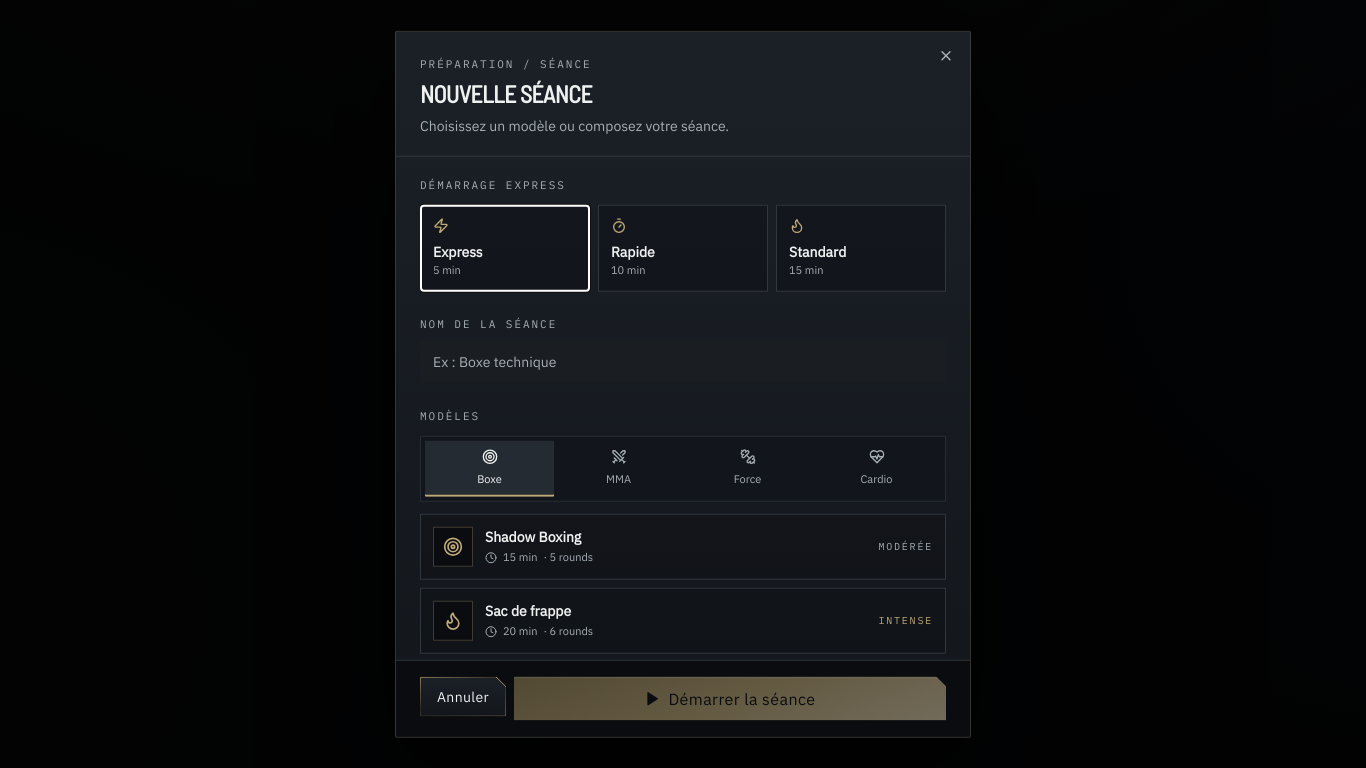
Scenario: StartWorkoutDialogV2 - MMA Templates › should render strength templates
# Click on strength tab
Step 1. Click the tab "Force" → (748, 468), box [683,440,812,496]
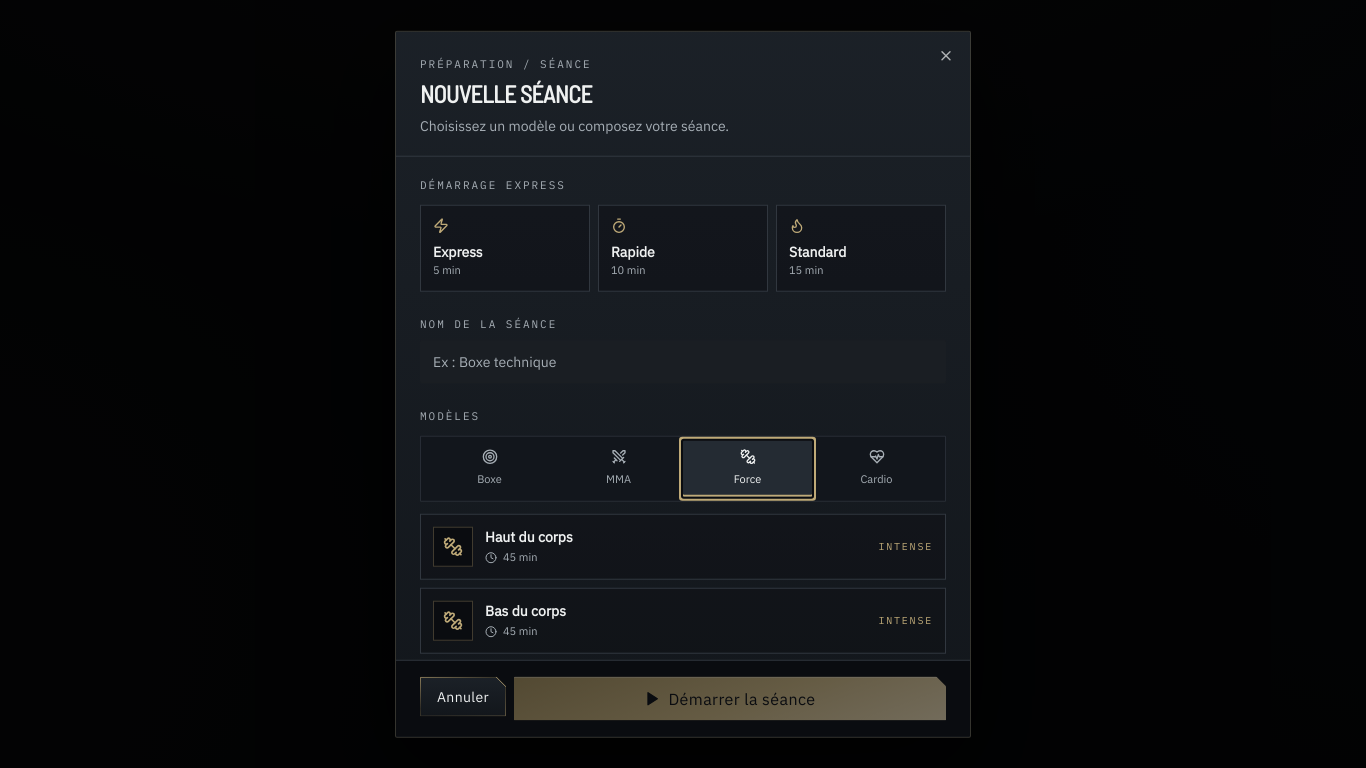
Expected: the text "Force" is shown, [734,468,761,488]
# Click on cardio tab to see HIIT
Step 2. Click the tab "Cardio" → (876, 468), box [812,440,941,496]
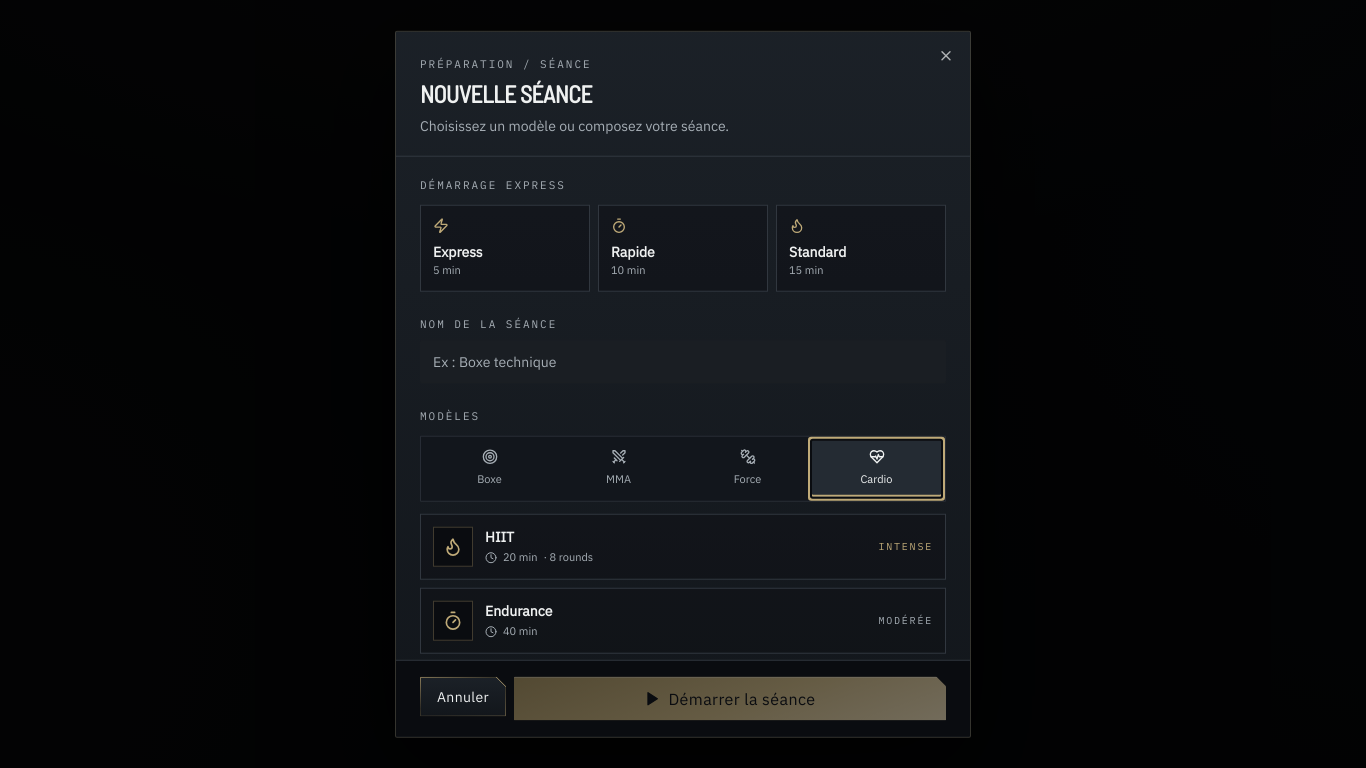
Expected: the text "HIIT" is shown, [485,528,514,546]
